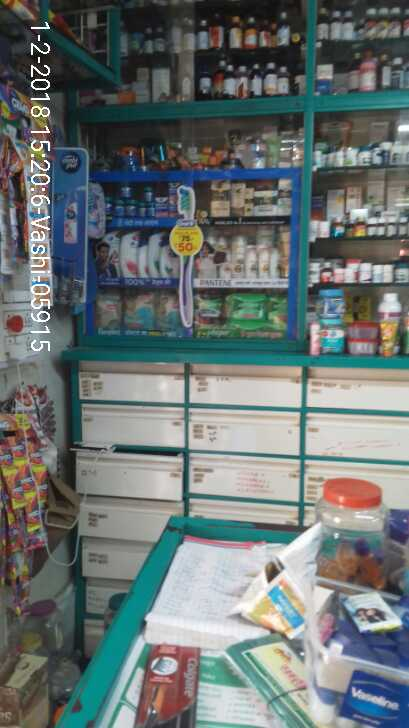beauty: (226, 224, 284, 282), (202, 176, 233, 222), (244, 184, 280, 217)
pharmacy: (96, 184, 190, 219), (217, 287, 271, 327), (150, 282, 190, 335), (118, 284, 155, 336), (91, 287, 123, 333), (191, 293, 224, 321)
